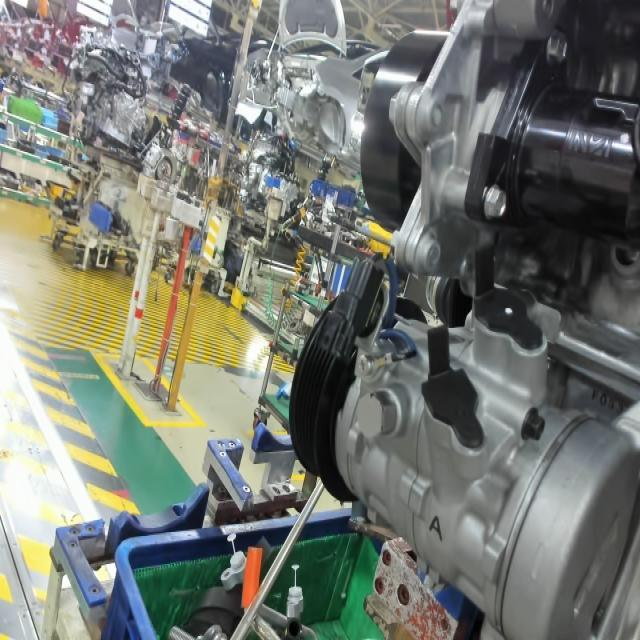Compressor-A: (425, 514, 445, 543)
